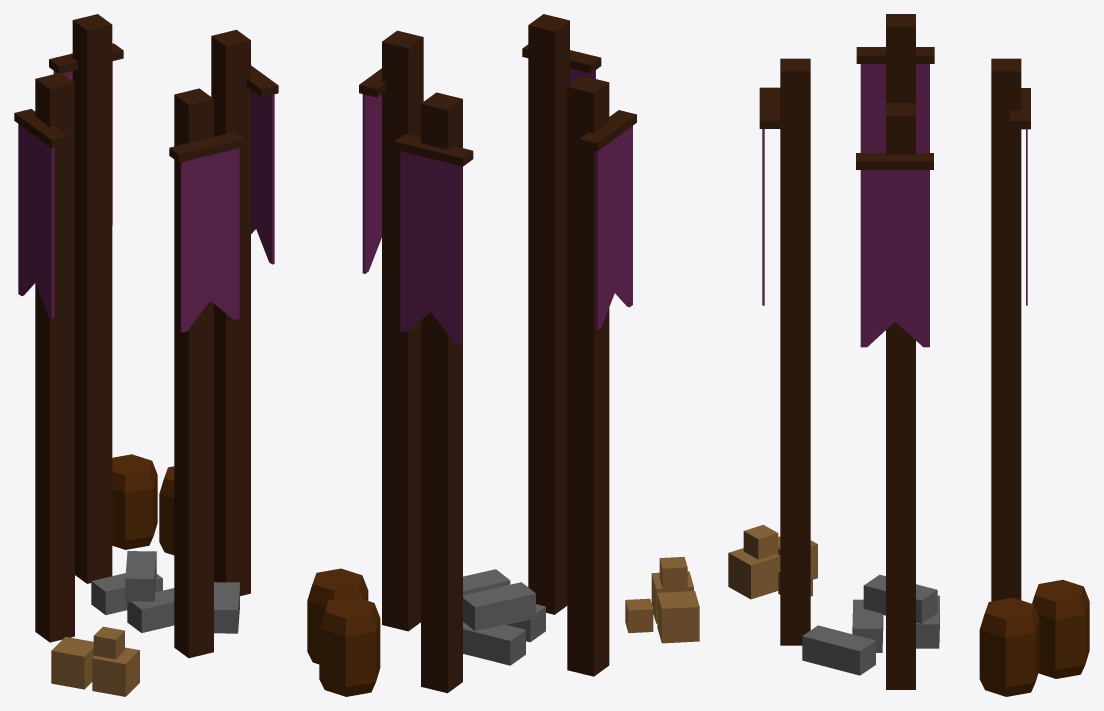
The model's file is TowerBuildPhase1v1.fbx.
3 views of the same model, side by side, from view 1: azimuth 30°, elevation 25°; view 2: azimuth 150°, elevation 25°; view 3: azimuth 270°, elevation 25° (orthographic). The views are drawn at different scales.
Visible parts, largest first — view 1: Cube.2742; view 2: Cube.2742; view 3: Cube.2742.
Boxes of the visible parts, x1,y1,x2,y2 form: Cube.2742: [14, 14, 278, 696]; Cube.2742: [307, 14, 699, 696]; Cube.2742: [728, 14, 1089, 696].
Size of the model in its own units: 71.77 by 142 by 80.98.
